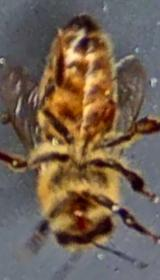varroa_mite: (94, 90, 119, 135)
